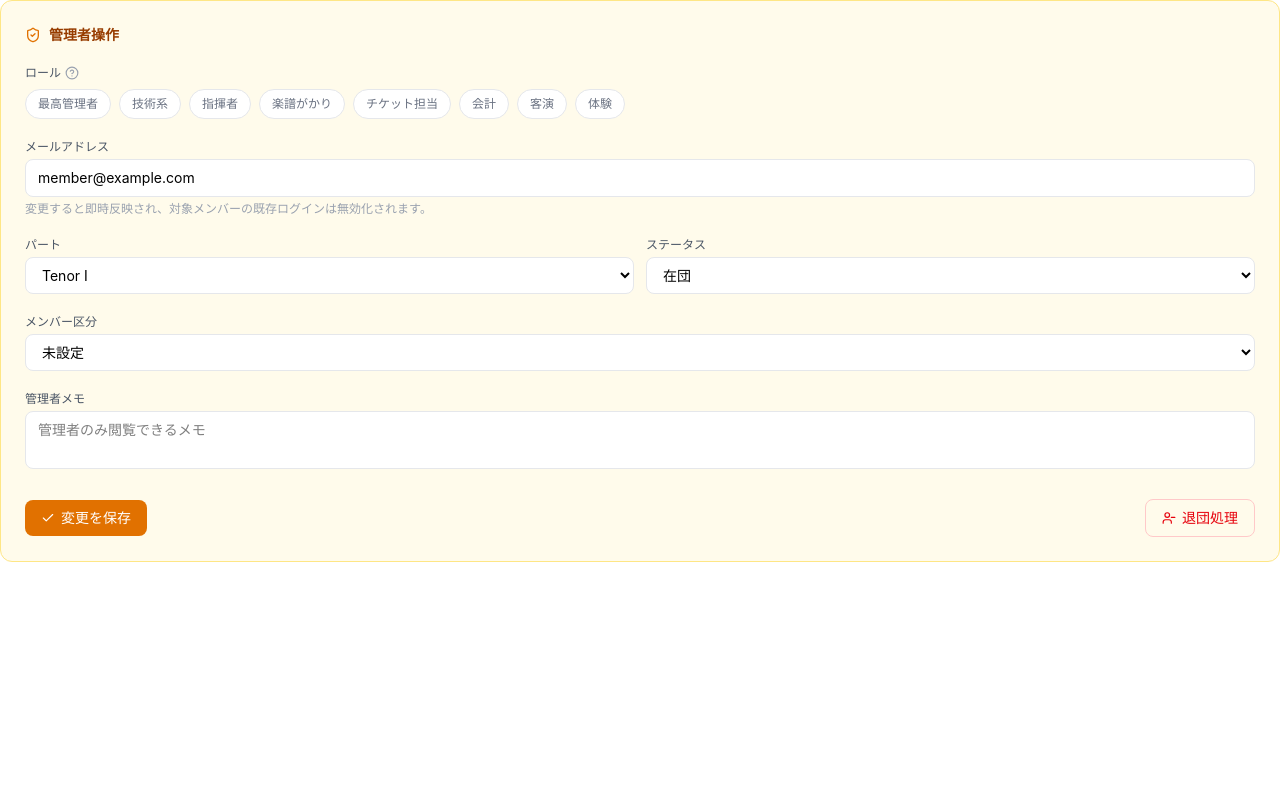
Test: AdminPanel（操作） › 退団処理が失敗した場合、確認ダイアログの中にエラーメッセージを表示する
Click the button "退団処理" at coordinates (1200, 518), box [1145,499,1255,537]
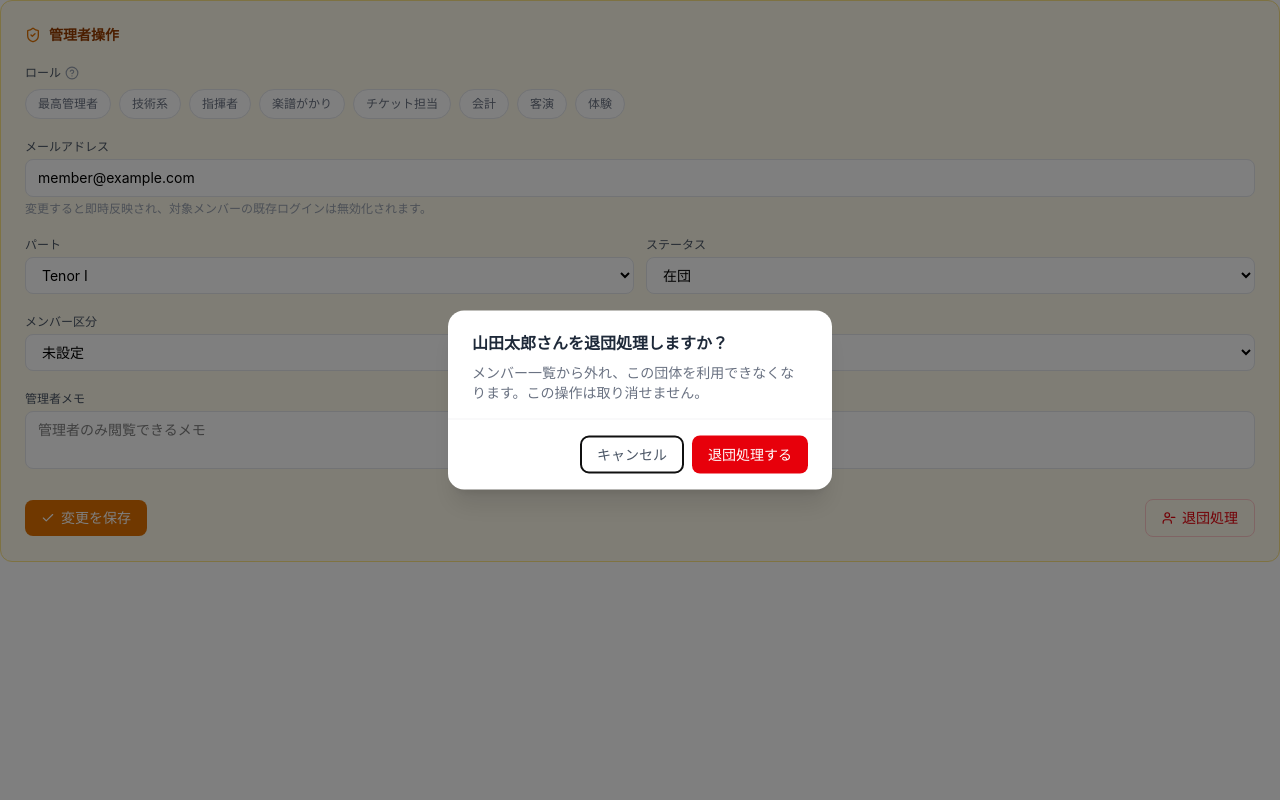
Click the button "退団処理する" at coordinates (750, 454), box [692,436,808,474]
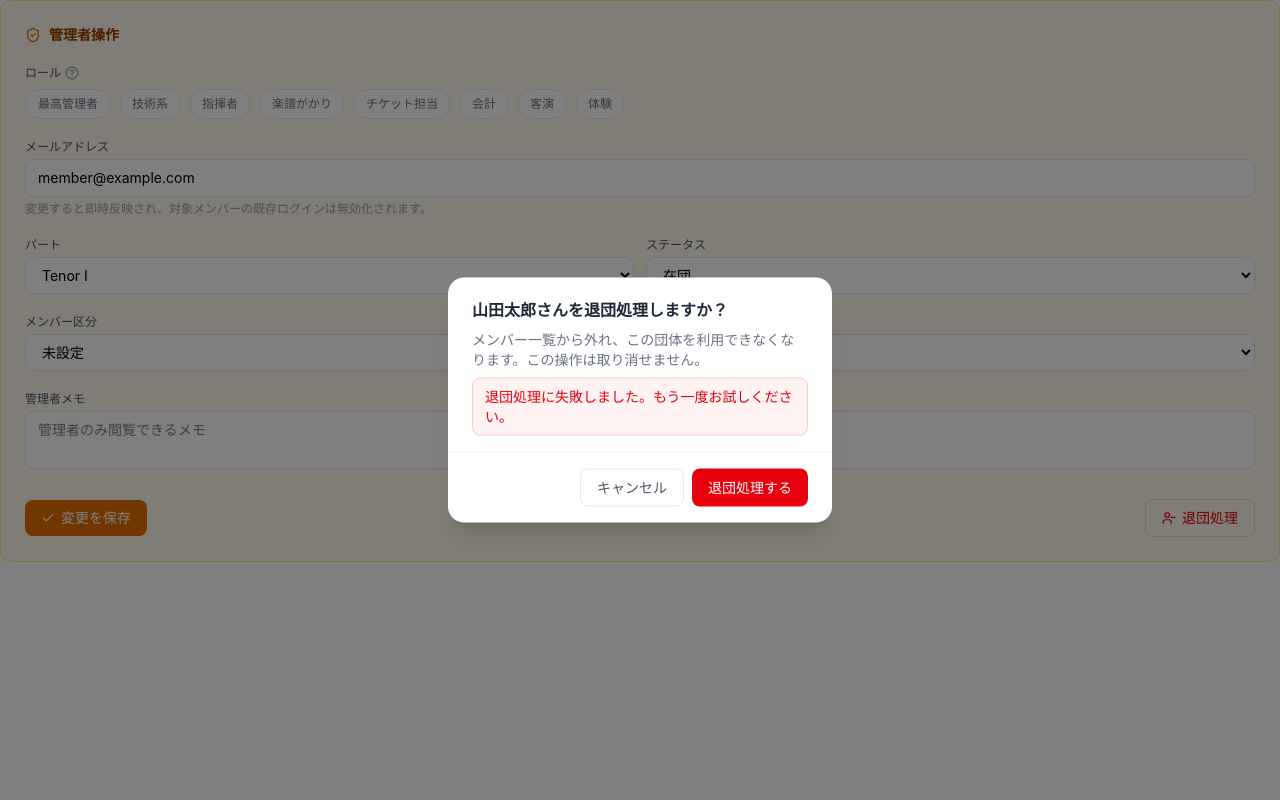
Now the button "退団処理する" is enabled, box [692,468,808,506]
Now the message reads "退団処理に失敗しました。もう一度お試しください。", box [485,388,793,424]
